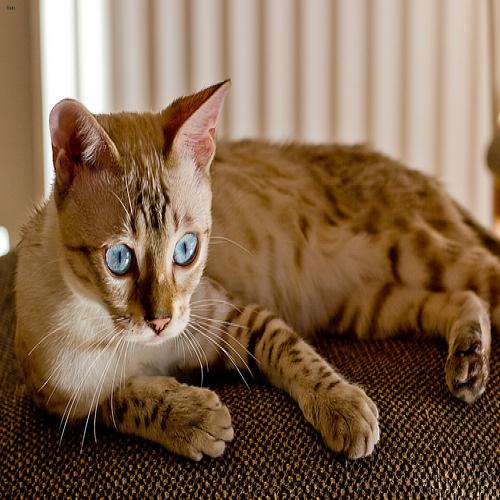bengal: (49, 80, 229, 355)
